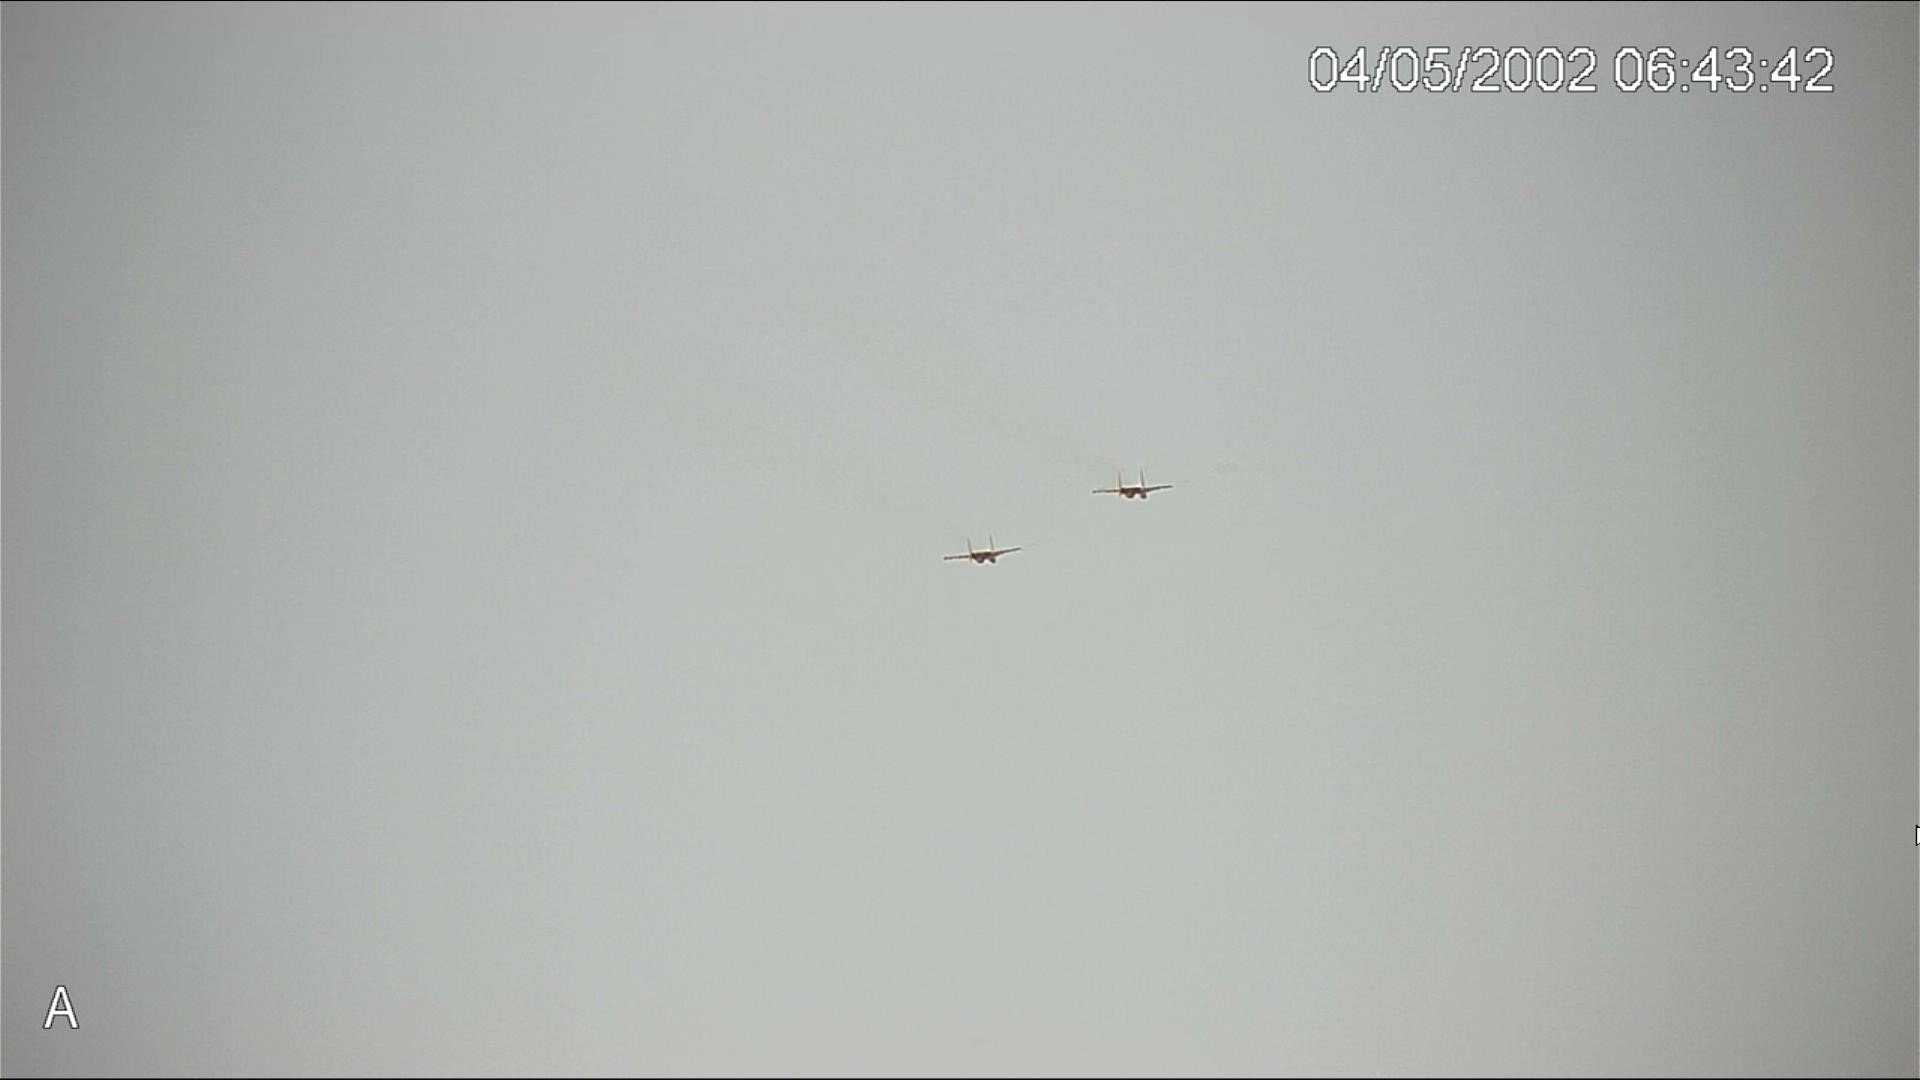SU_30: (1092, 469, 1182, 508), (945, 535, 1022, 568)
